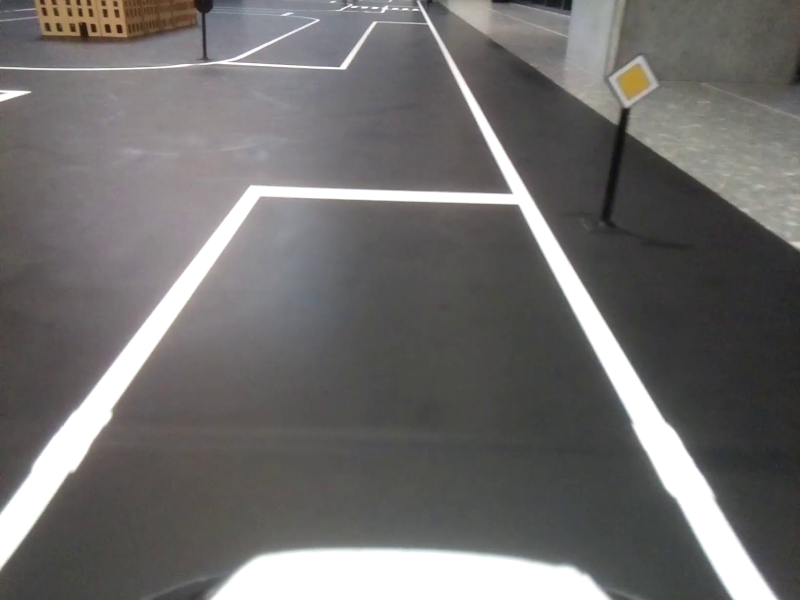priority: (609, 60, 656, 107)
